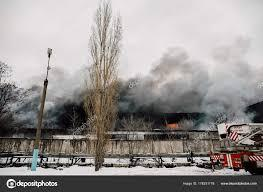smoke: (5, 39, 263, 142)
